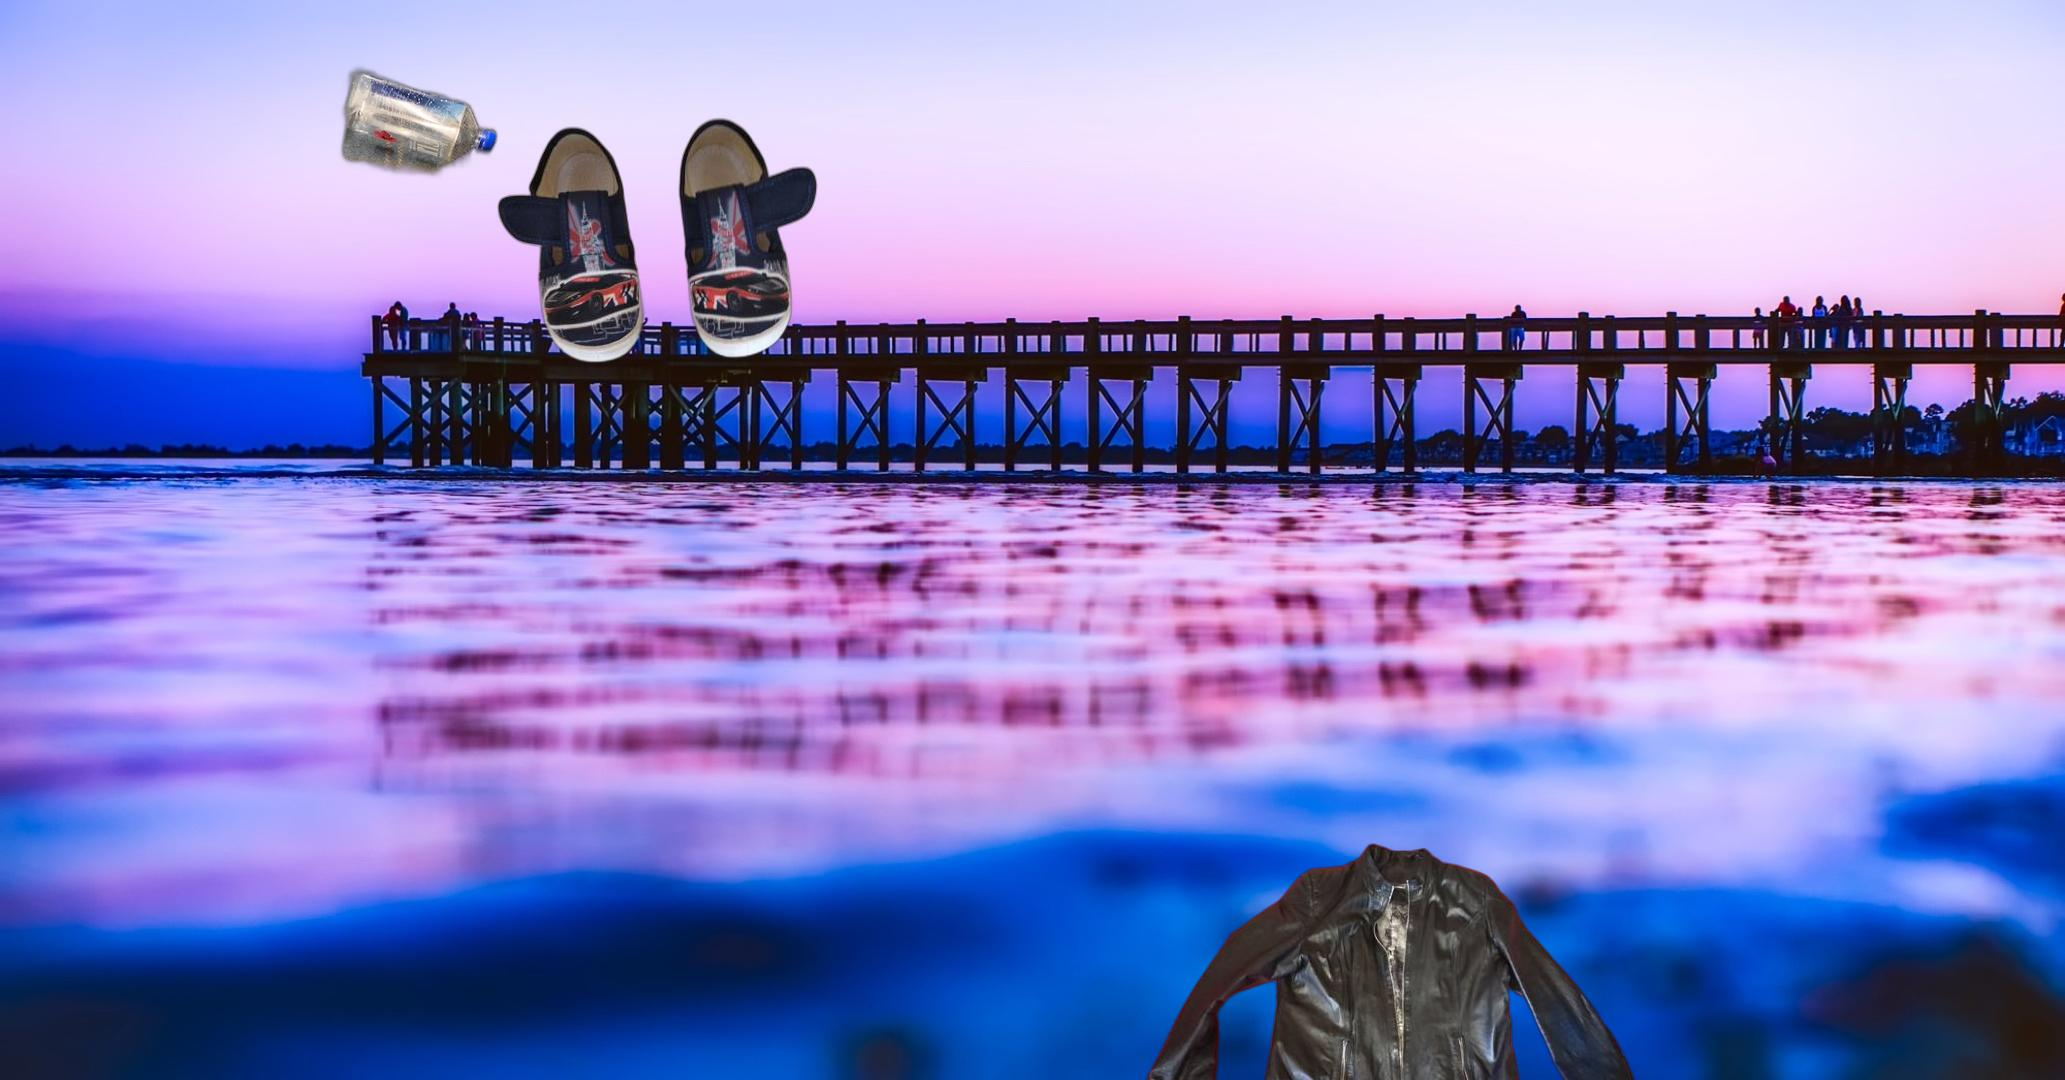clothes: (1134, 840, 1657, 1080)
plastic-bottles: (337, 59, 501, 182)
shoes: (494, 115, 819, 367)
